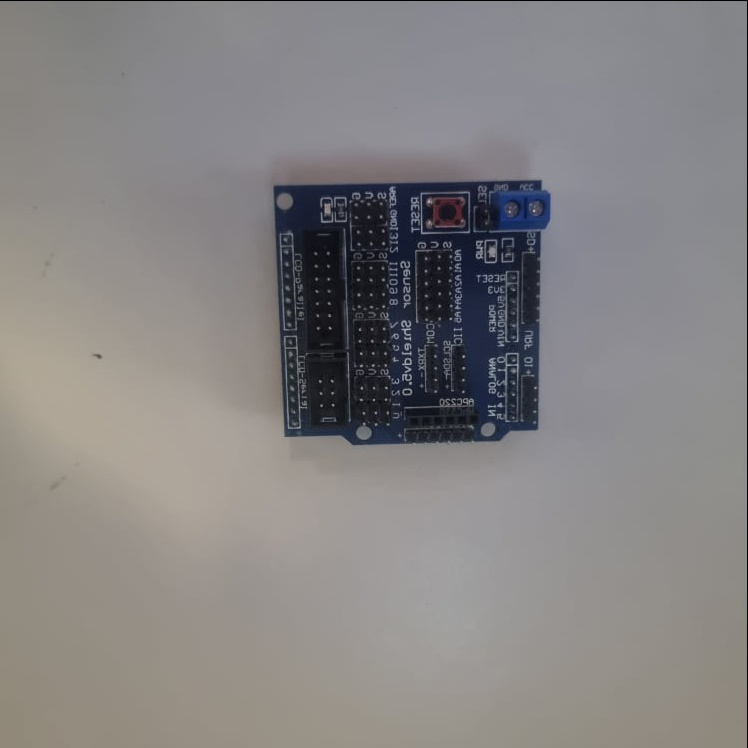5V EXPANSION: (279, 176, 554, 443)
